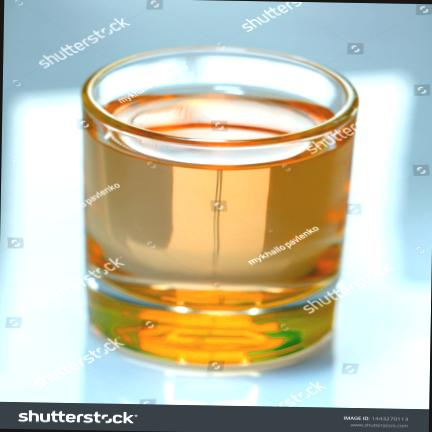container: (80, 44, 358, 374)
fluid: (79, 121, 350, 366)
fluid-surface: (105, 93, 348, 168)
